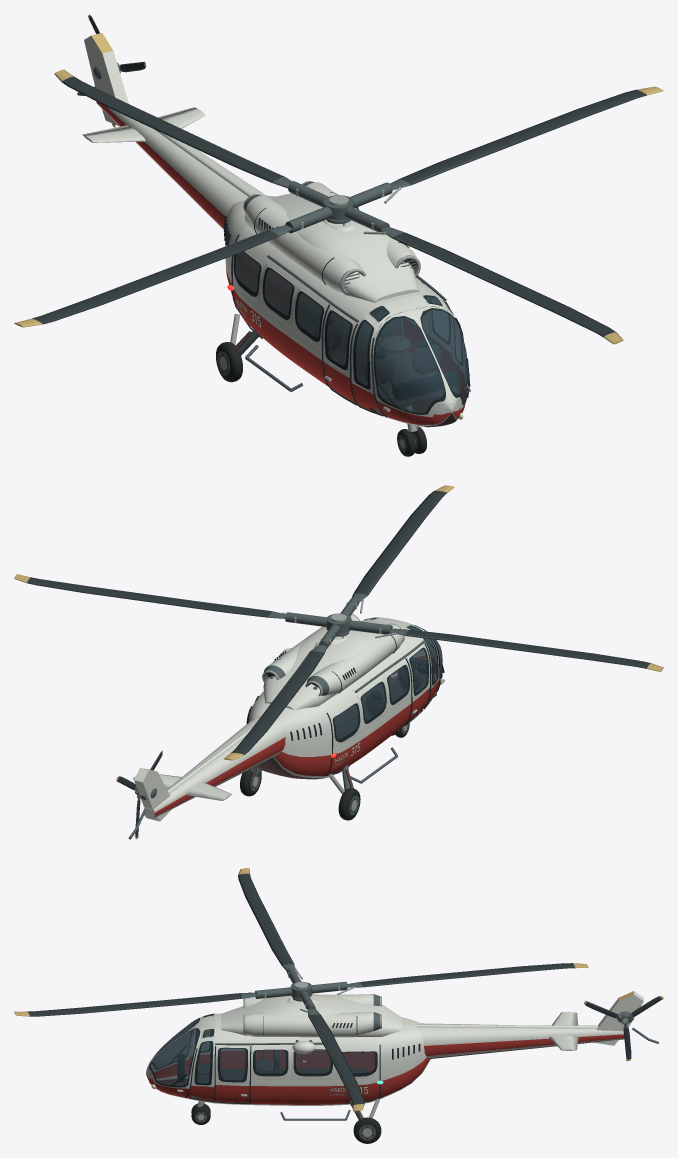
The model's file is BYEOL.glb.
The picture shows the model from 3 angles, top to bottom: view 1: azimuth 30°, elevation 25°; view 2: azimuth 150°, elevation 25°; view 3: azimuth 270°, elevation 25°; orthographic projection. The views are drawn at different scales.
Visible parts, largest first — view 1: Airframe, MainRotor; view 2: Airframe, MainRotor; view 3: Airframe, MainRotor, TailRotor.
Part boxes in pixels (left/top/right/bottom): Airframe: left=77, top=33, right=470, bottom=456; MainRotor: left=14, top=69, right=663, bottom=344; Airframe: left=128, top=614, right=444, bottom=839; MainRotor: left=14, top=485, right=663, bottom=760; Airframe: left=146, top=991, right=658, bottom=1143; MainRotor: left=14, top=868, right=588, bottom=1111; TailRotor: left=584, top=996, right=663, bottom=1061.
Size of the model in its own units: 15.47 by 4.1 by 17.5.
17 materials, 1 textured.
